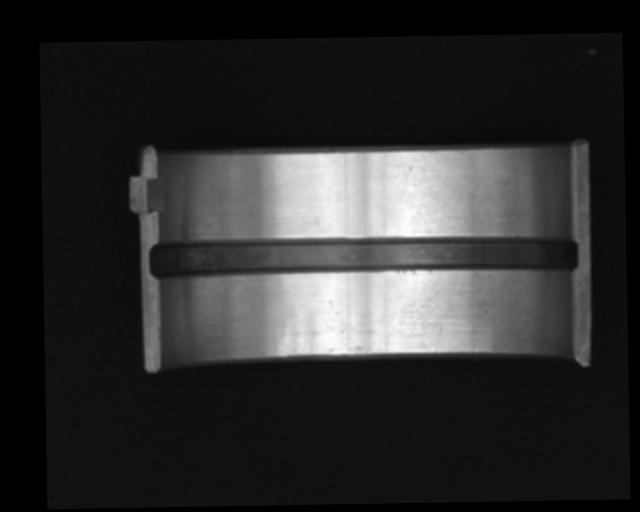gap: (146, 233, 580, 283)
